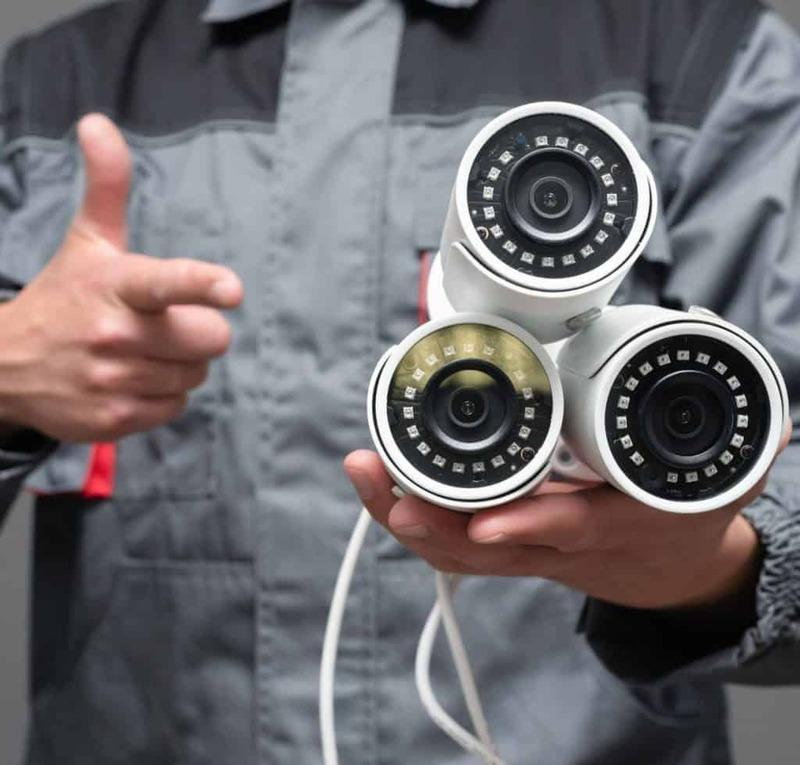bullet: (564, 299, 789, 506), (359, 305, 562, 517), (448, 97, 663, 291)
